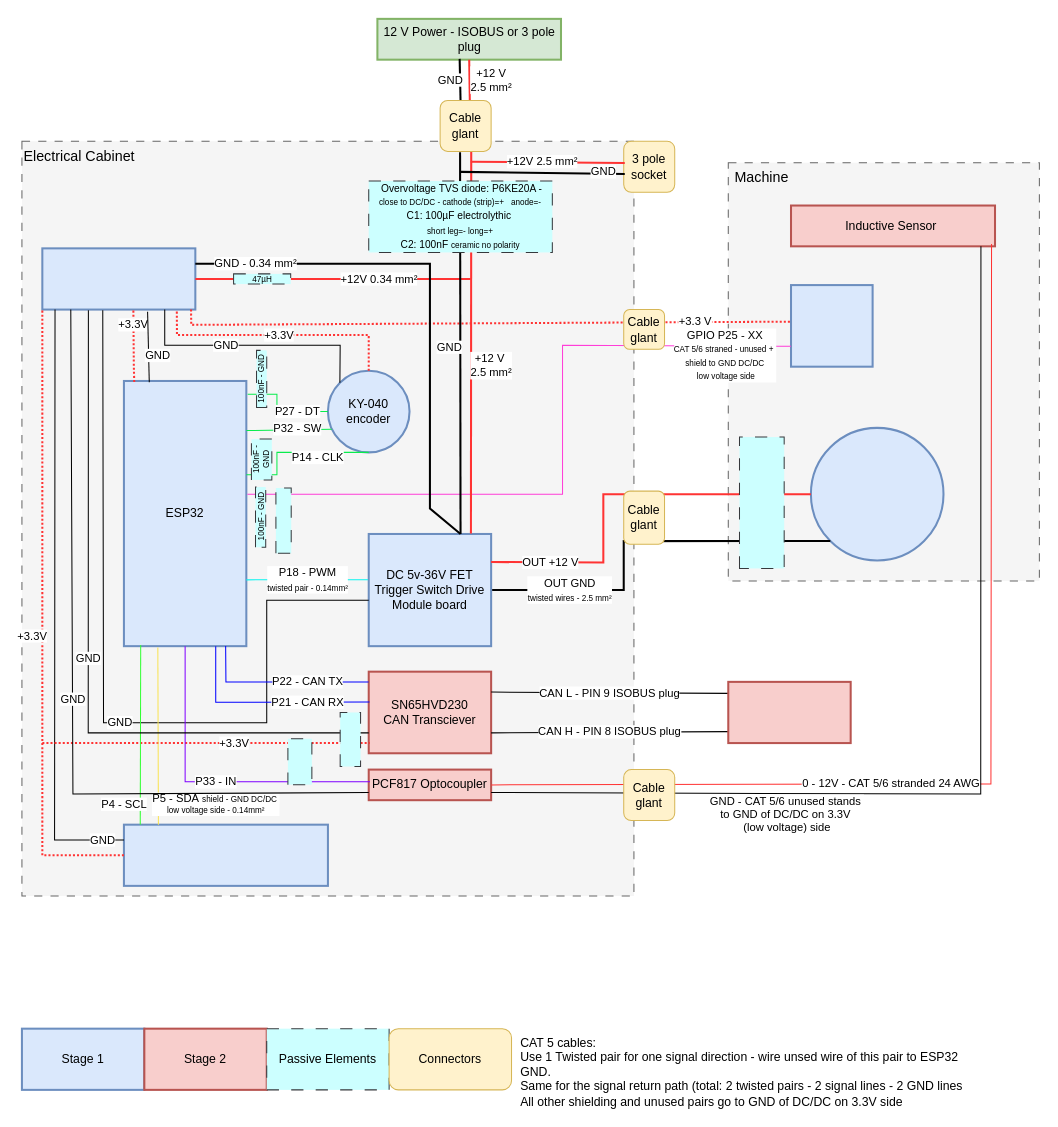
Image size: 1058x1127. Some labels were removed from this diagram. Each missing label, with the box of its shape:
1 - 4.7 k Ohm - 3.3V: (287, 738, 312, 785)
1 k Ohm - GND: (275, 487, 291, 553)
100nF GND - +3.3V: (339, 711, 361, 767)
12 / 3.3 V DC/DC: (41, 247, 196, 310)
20x4 I2C Display: (122, 823, 328, 886)
CCI100: (727, 680, 851, 744)
diode mbr2045 CT P2-OUT=+12V P1,3 OUT= GND: (738, 436, 784, 568)
Motor 12 V, 10 A: (809, 426, 944, 561)
Reed Sensor: (789, 284, 873, 367)
